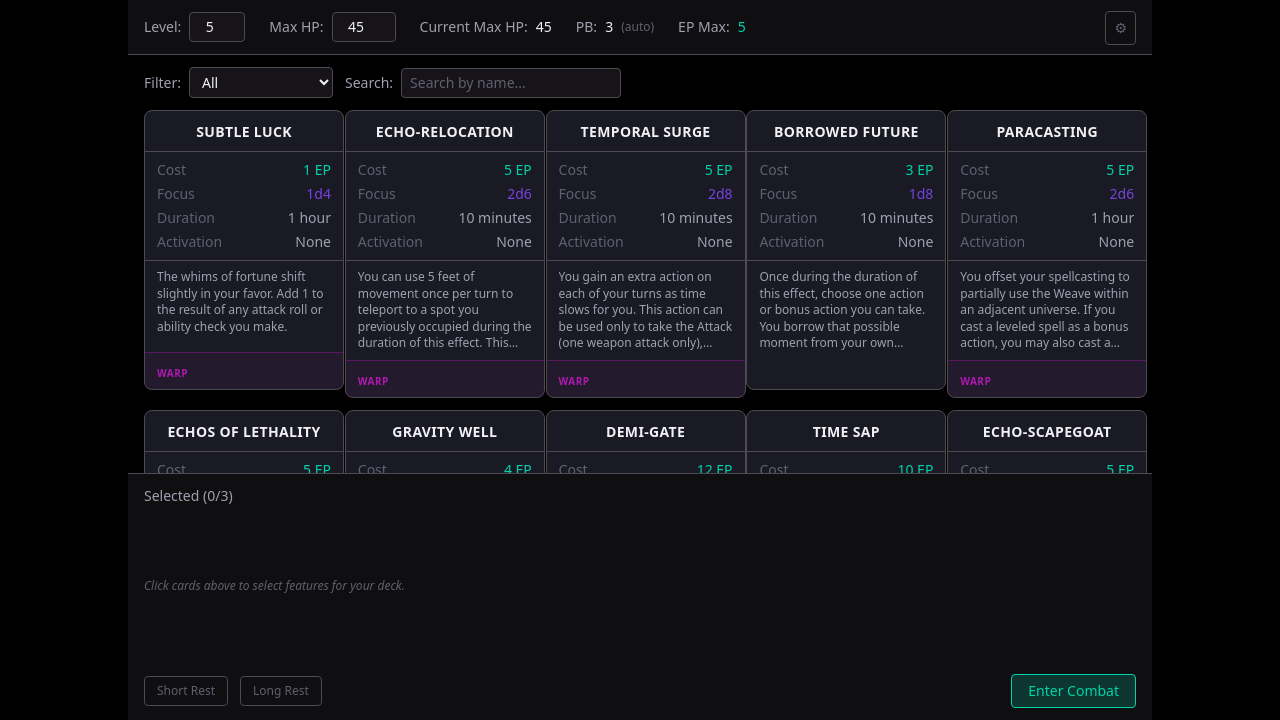
Scenario: DeckBuilder › full flow: select a card, see it in SelectedPanel, deselect it
Check: the text "Selected (0/3)" is shown, box left=144, top=486, right=233, bottom=506
Click a card in the collection to select it
Click the button labelled "Subtle Luck".
click(244, 250)  # box left=144, top=110, right=344, bottom=390
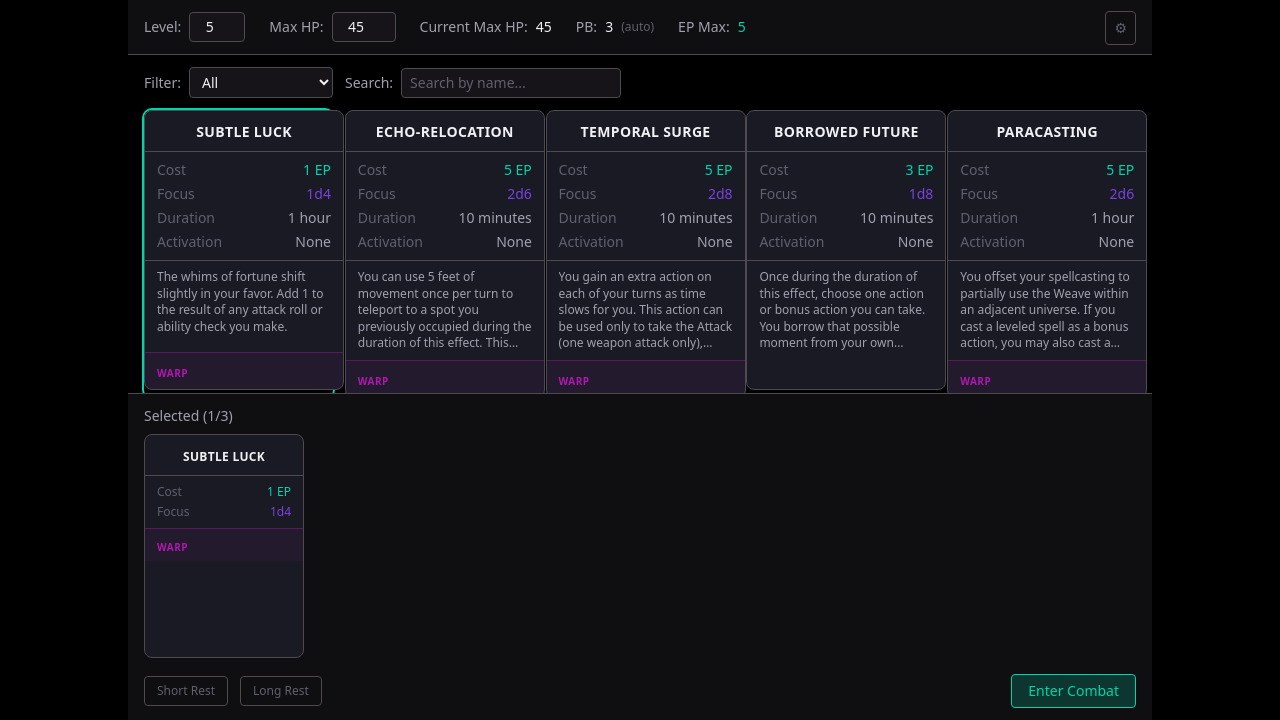
Check: the text "Selected (1/3)" is shown, box left=144, top=406, right=233, bottom=426
Check: the number of buttons labelled "Subtle Luck" is 2
Click the button labelled "Subtle Luck Cost 1 EP Focus 1d4 Warp".
click(224, 546)  # box left=144, top=434, right=304, bottom=658
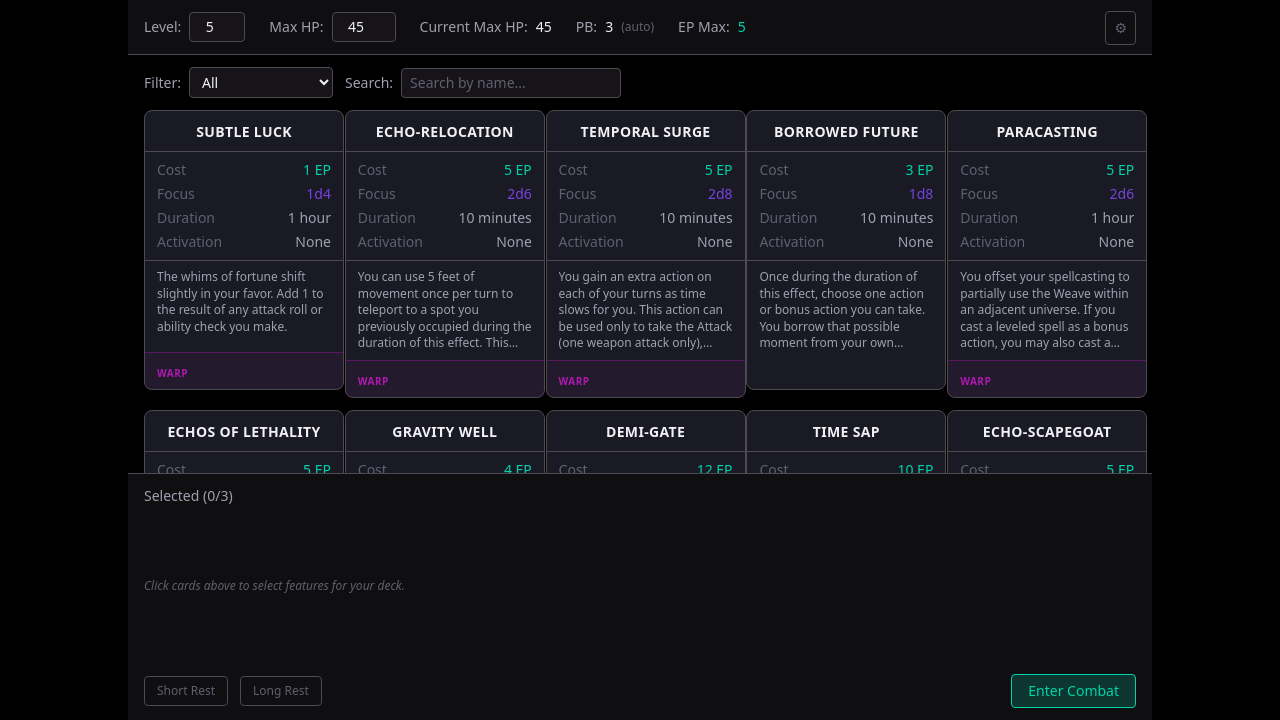
Check: the text "Selected (0/3)" is shown, box left=144, top=486, right=233, bottom=506
